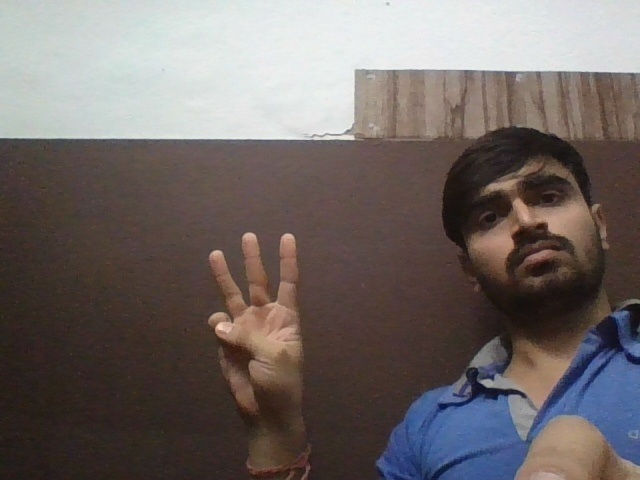W: (197, 220, 325, 422)
